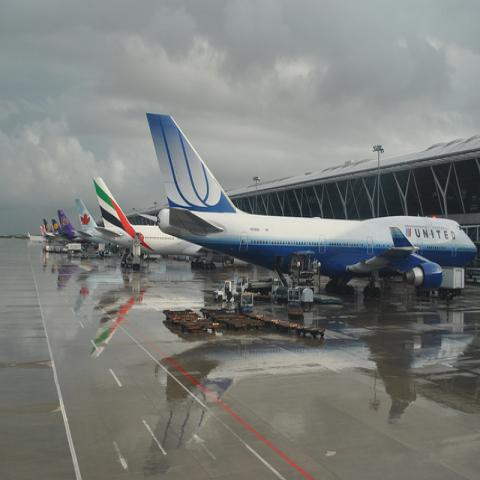truck: (238, 290, 327, 339), (440, 268, 464, 301)
